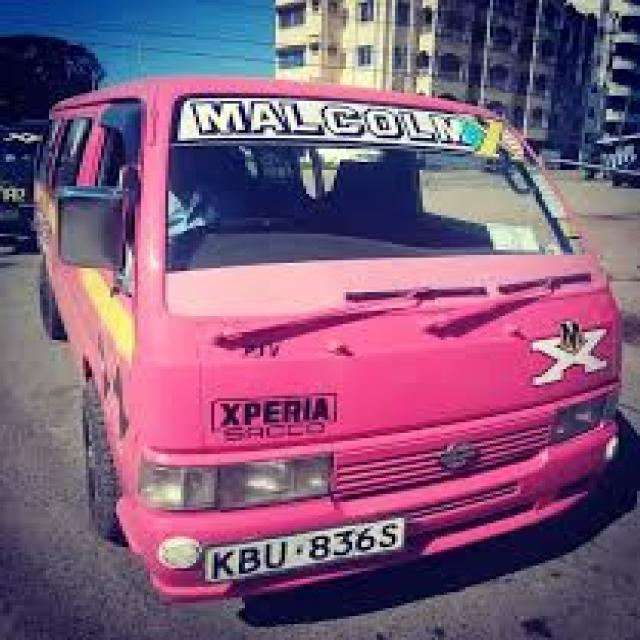matatu: (17, 30, 640, 626)
